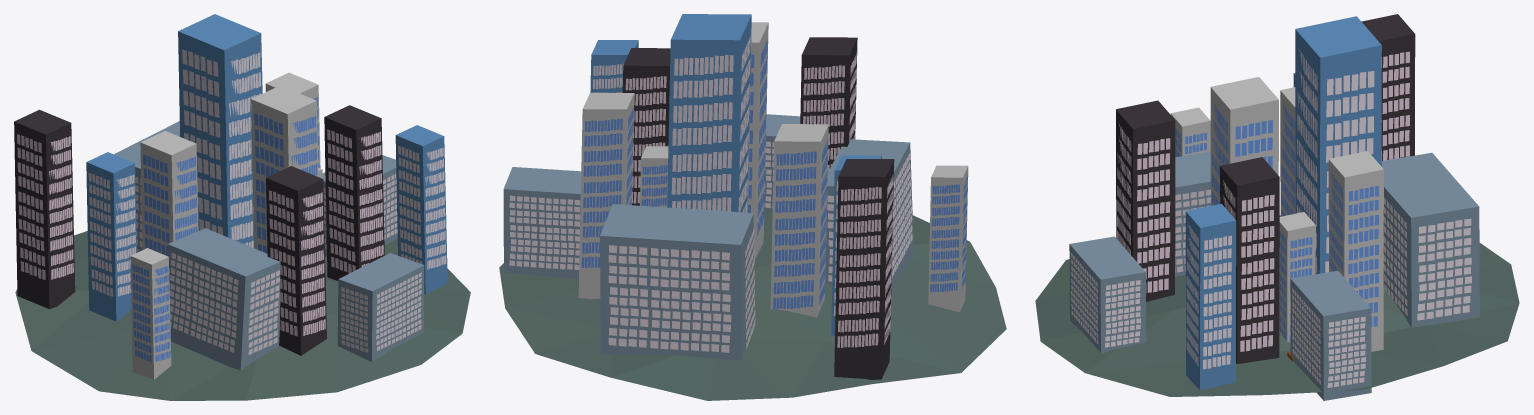
The model's file is city_european_2.dae.
3 views of the same model, side by side, from view 1: azimuth 30°, elevation 25°; view 2: azimuth 150°, elevation 25°; view 3: azimuth 270°, elevation 25° (orthographic). The views are drawn at different scales.
Parts seen in each view (by area): view 1: Grass, Plane_008, Plane_005, Plane_013, Plane_007, Plane_012, Plane_000, Plane_004, Plane_002, Plane_001, Plane_006, Plane_009 (+3 smaller); view 2: Grass, Plane_402, Plane_008, Plane_013, Plane_006, Plane_011, Plane_003, Plane_007, Plane_009, Plane_012, Plane_005, Plane_001 (+4 smaller); view 3: Grass, Plane_402, Plane_008, Plane_007, Plane_012, Plane_002, Plane_011, Plane_003, Plane_000, Plane_001, Plane_013, Plane_010 (+3 smaller).
Boxes of the visible parts, <box> form: Grass: <box>15,231,470,400</box>; Plane_008: <box>178,14,262,247</box>; Plane_005: <box>167,228,280,370</box>; Plane_013: <box>14,109,75,308</box>; Plane_007: <box>266,166,326,355</box>; Plane_012: <box>324,105,384,280</box>; Plane_000: <box>337,253,424,361</box>; Plane_004: <box>86,152,136,321</box>; Plane_002: <box>395,125,447,294</box>; Plane_001: <box>251,85,318,253</box>; Plane_006: <box>140,131,198,255</box>; Plane_009: <box>130,248,171,379</box>; Grass: <box>499,209,1006,400</box>; Plane_402: <box>600,204,755,360</box>; Plane_008: <box>667,14,751,212</box>; Plane_013: <box>834,159,894,379</box>; Plane_006: <box>770,124,828,317</box>; Plane_011: <box>503,167,581,279</box>; Plane_003: <box>578,92,634,299</box>; Plane_007: <box>800,37,857,172</box>; Plane_009: <box>928,165,968,312</box>; Plane_012: <box>622,48,670,205</box>; Plane_005: <box>825,139,913,294</box>; Plane_001: <box>747,22,768,258</box>; Grass: <box>1035,215,1519,396</box>; Plane_402: <box>1381,152,1479,327</box>; Plane_008: <box>1295,16,1381,274</box>; Plane_007: <box>1116,100,1175,301</box>; Plane_012: <box>1220,157,1279,363</box>; Plane_002: <box>1185,203,1236,389</box>; Plane_011: <box>1290,270,1371,400</box>; Plane_003: <box>1328,151,1383,351</box>; Plane_000: <box>1069,236,1146,353</box>; Plane_001: <box>1210,77,1278,205</box>; Plane_013: <box>1361,14,1415,160</box>; Plane_010: <box>1279,212,1315,342</box>.
Bounding box in the file's own units: 5.01 × 5.05 × 3.35.
